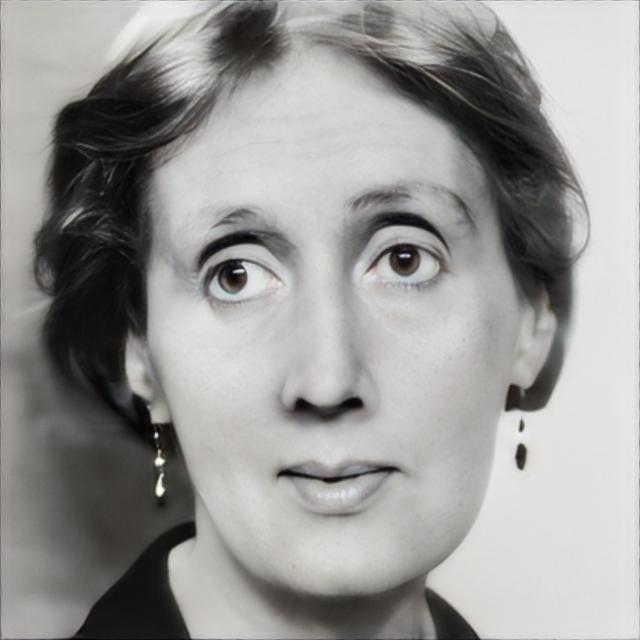surprise: (147, 46, 512, 599)
